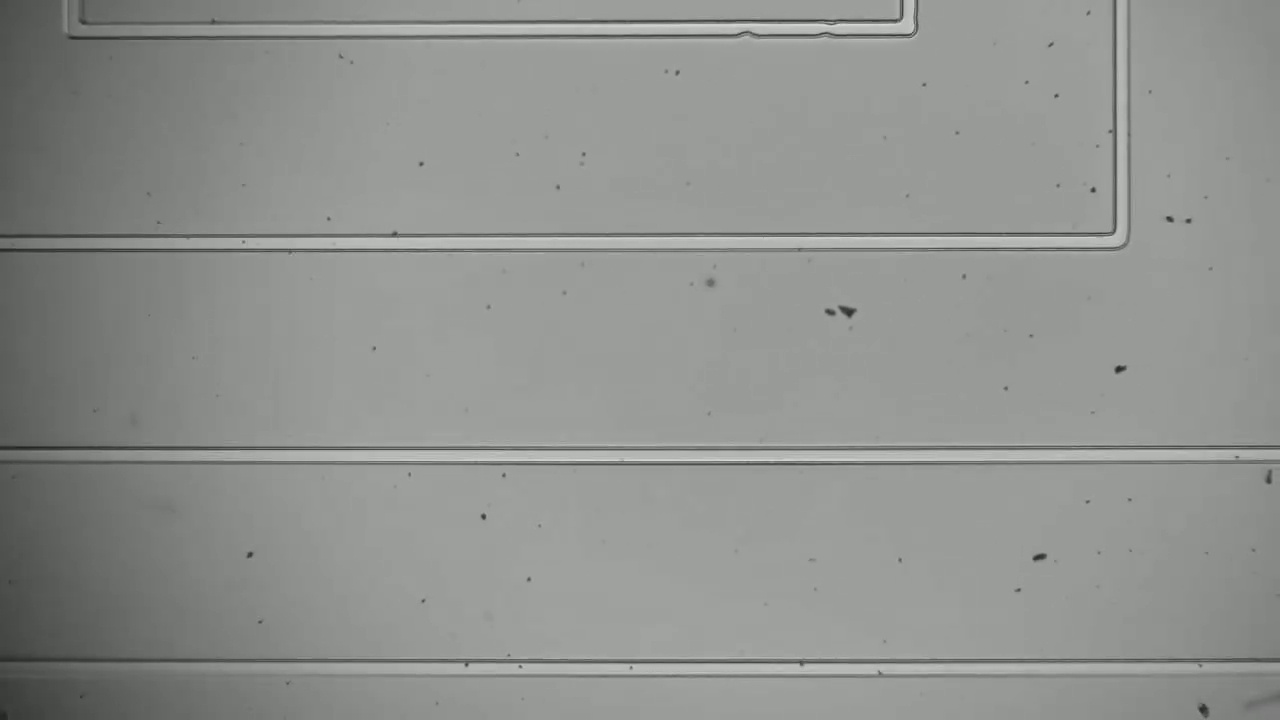edge_bite: (724, 11, 762, 49), (812, 13, 842, 44)
